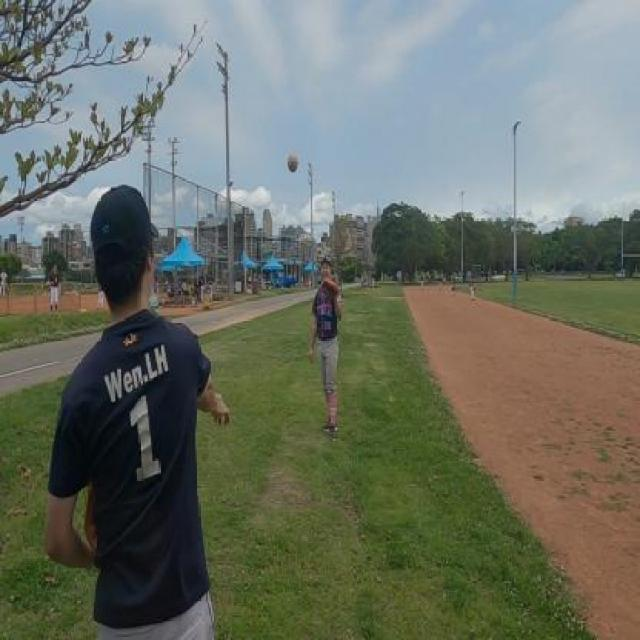baseball: (287, 153, 299, 173)
